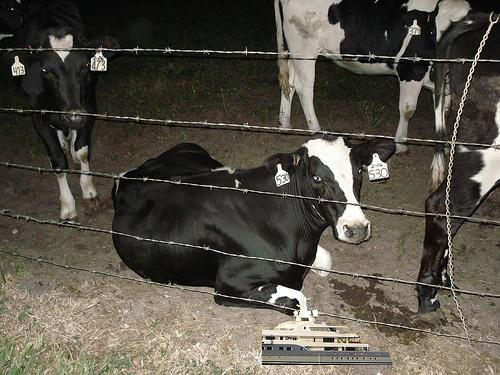tampered: (263, 298, 392, 365)
